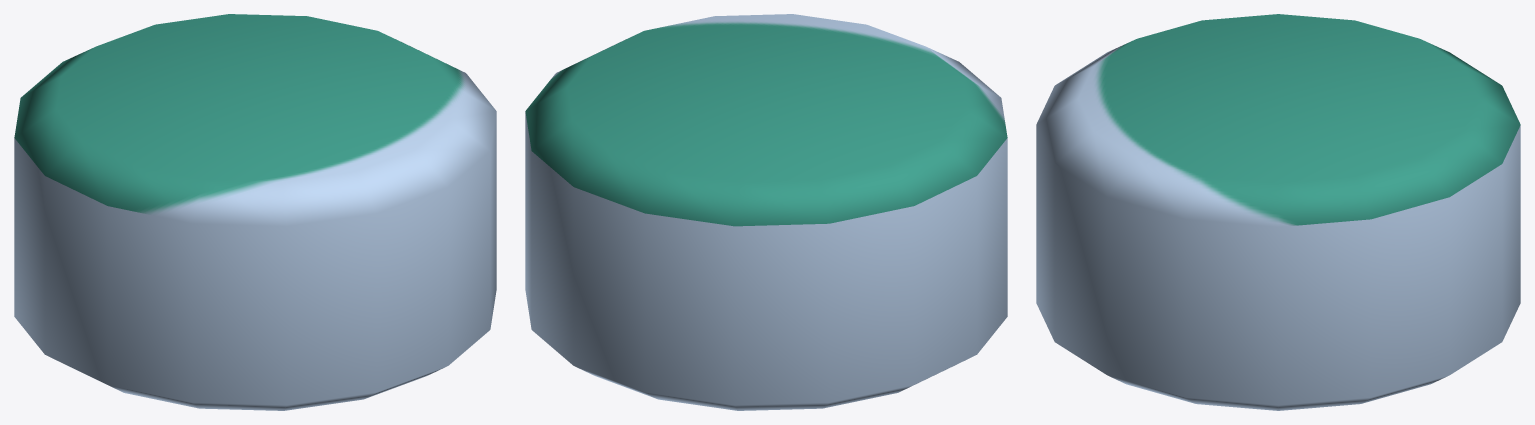
Rendered from Milk_Bottle_Cap_01.fbx.
The picture shows the model from 3 angles, left to right: view 1: azimuth 30°, elevation 25°; view 2: azimuth 150°, elevation 25°; view 3: azimuth 270°, elevation 25°; orthographic projection.
Parts seen in each view (by area): view 1: Milk_Bottle_Cap_01; view 2: Milk_Bottle_Cap_01; view 3: Milk_Bottle_Cap_01.
Boxes of the visible parts, x1,y1,x2,y2 form: Milk_Bottle_Cap_01: (14, 14, 496, 410); Milk_Bottle_Cap_01: (525, 14, 1007, 410); Milk_Bottle_Cap_01: (1036, 14, 1520, 410).
Bounding box in the file's own units: 22.44 × 11.31 × 22.44.
